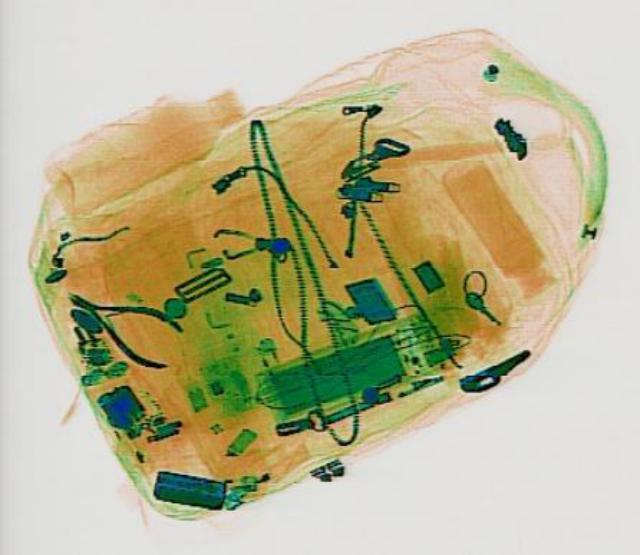Pliers: (51, 272, 196, 373)
